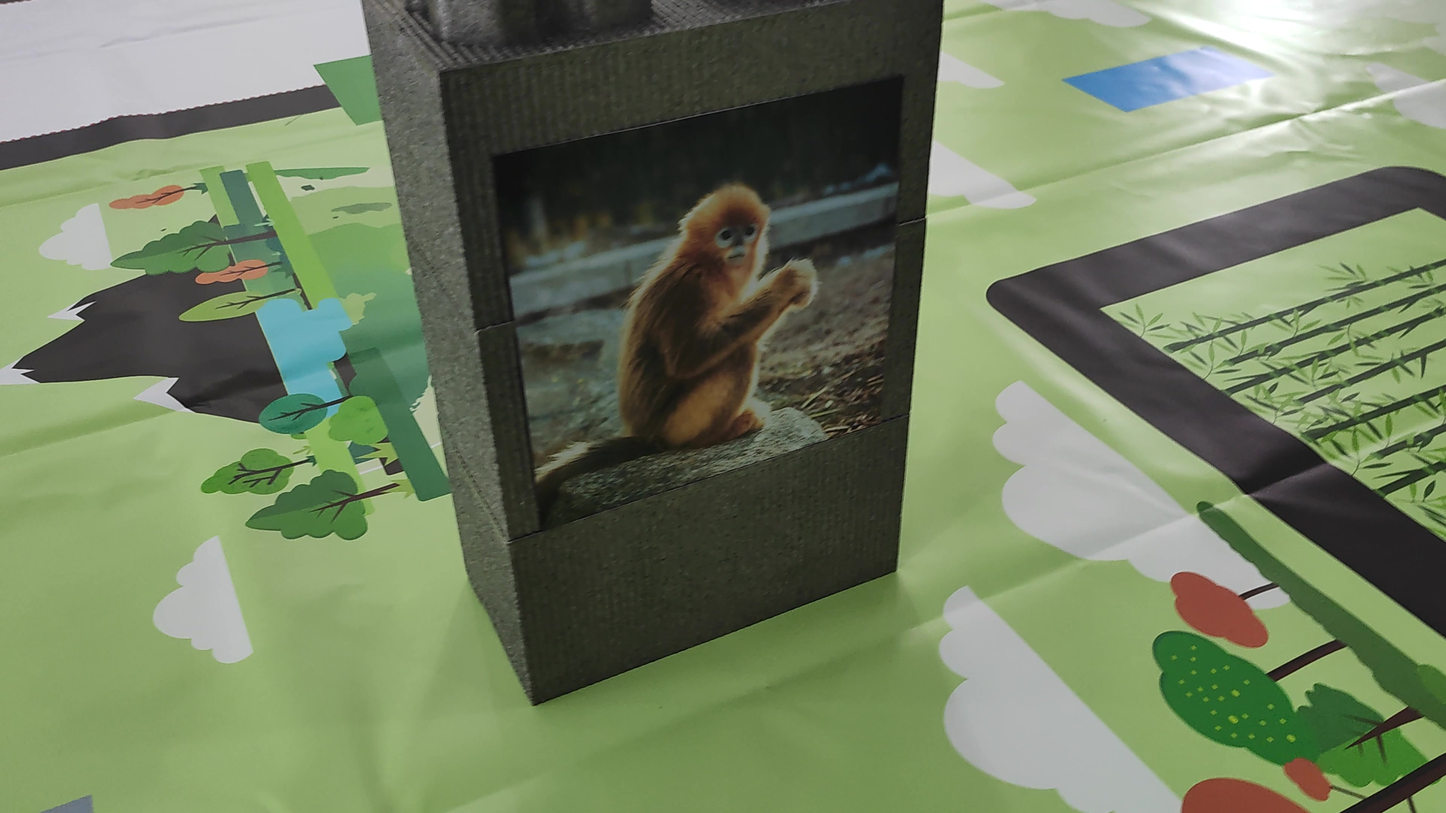monkey: (512, 162, 851, 536)
